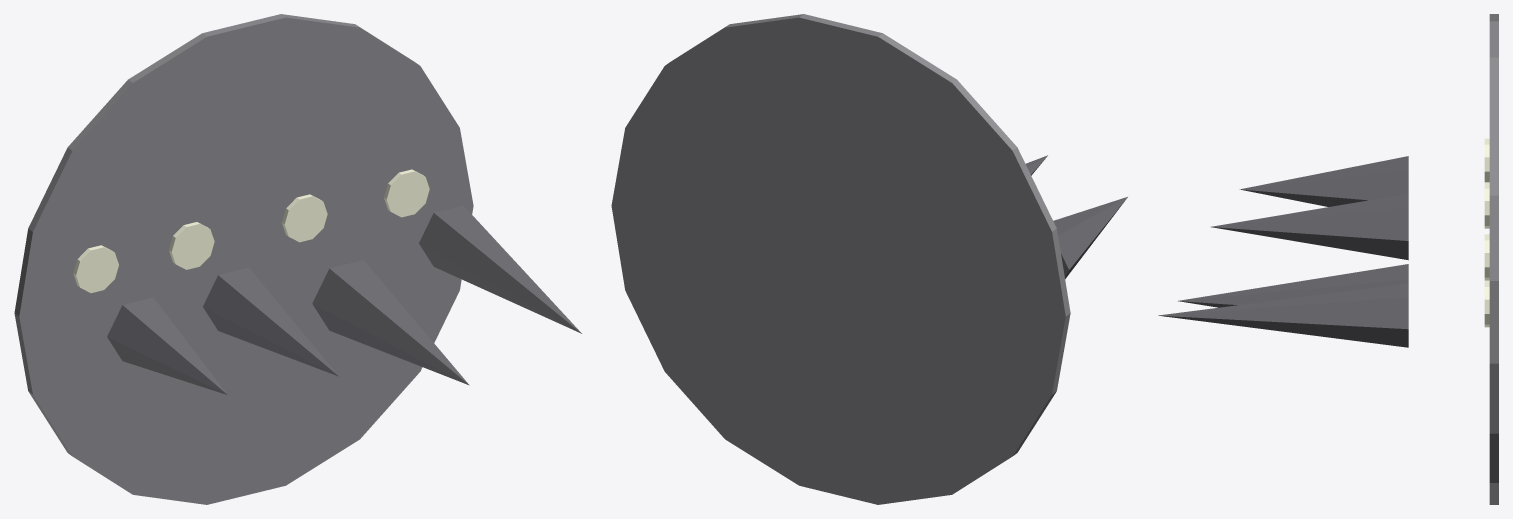
File: 04_event_hazard_cluster.glb
The picture shows the model from 3 angles, left to right: view 1: azimuth 30°, elevation 25°; view 2: azimuth 150°, elevation 25°; view 3: azimuth 270°, elevation 25°; orthographic projection. The views are drawn at different scales.
Parts seen in each view (by area): view 1: scatter_base, basalt_shard_2, basalt_shard_3, basalt_shard_1, basalt_shard_0, lava_glow_2, lava_glow_3, lava_glow_1, lava_glow_0; view 2: scatter_base, basalt_shard_0; view 3: basalt_shard_3, basalt_shard_1, scatter_base, basalt_shard_0, basalt_shard_2.
Part boxes in pixels (left/top/right/bottom): scatter_base: left=14, top=14, right=473, bottom=504; basalt_shard_2: left=312, top=260, right=469, bottom=385; basalt_shard_3: left=419, top=205, right=581, bottom=333; basalt_shard_1: left=203, top=267, right=338, bottom=376; basalt_shard_0: left=107, top=297, right=227, bottom=394; lava_glow_2: left=282, top=194, right=327, bottom=242; lava_glow_3: left=384, top=169, right=429, bottom=217; lava_glow_1: left=169, top=222, right=214, bottom=269; lava_glow_0: left=73, top=245, right=118, bottom=292; scatter_base: left=611, top=14, right=1070, bottom=504; basalt_shard_0: left=1053, top=197, right=1127, bottom=278; basalt_shard_3: left=1158, top=283, right=1408, bottom=347; basalt_shard_1: left=1211, top=193, right=1408, bottom=260; scatter_base: left=1489, top=14, right=1498, bottom=504; basalt_shard_0: left=1239, top=156, right=1408, bottom=206; basalt_shard_2: left=1178, top=264, right=1408, bottom=307.
Size of the model in its own units: 1.9 by 1.87 by 1.32.
